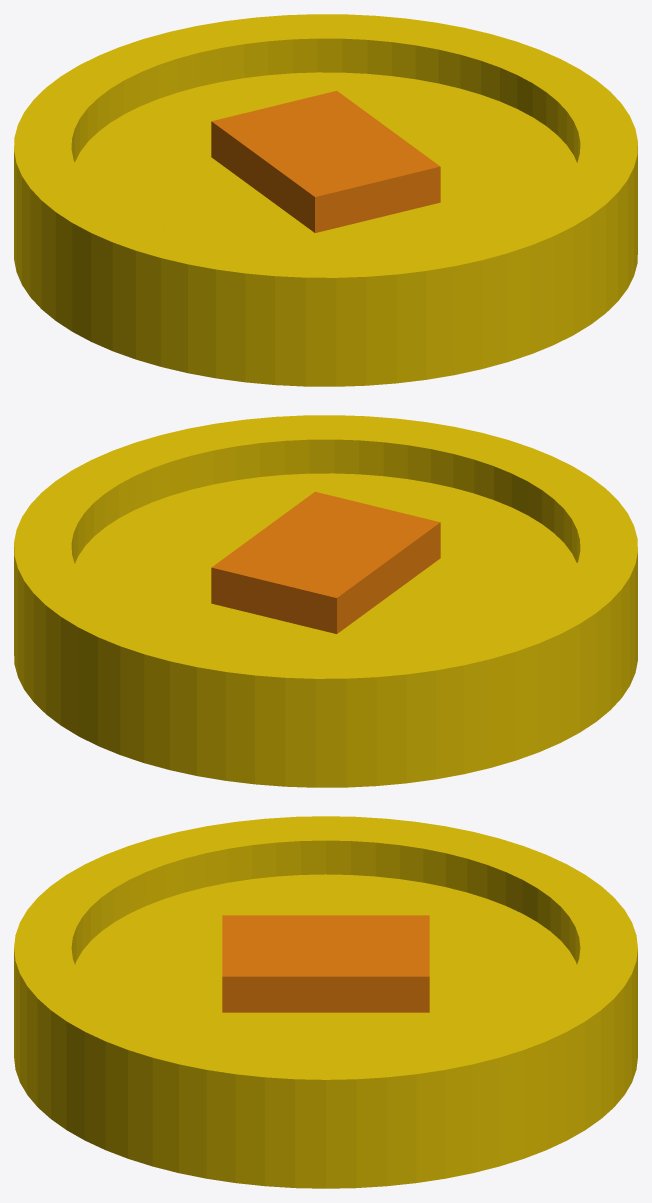
The model's file is Coins.fbx.
The picture shows the model from 3 angles, top to bottom: view 1: azimuth 30°, elevation 25°; view 2: azimuth 150°, elevation 25°; view 3: azimuth 270°, elevation 25°; orthographic projection.
Parts seen in each view (by area): view 1: Cylinder; view 2: Cylinder; view 3: Cylinder.
Part boxes in pixels (bbox=[...]): Cylinder: bbox=[14, 14, 637, 386]; Cylinder: bbox=[14, 415, 637, 787]; Cylinder: bbox=[14, 816, 637, 1188].
Bounding box in the file's own units: 200 × 39.24 × 200.
